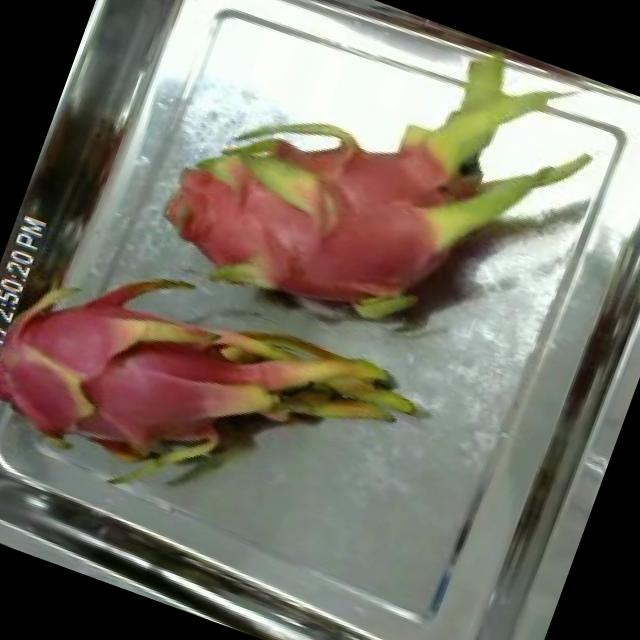Fruit: (132, 101, 366, 315)
